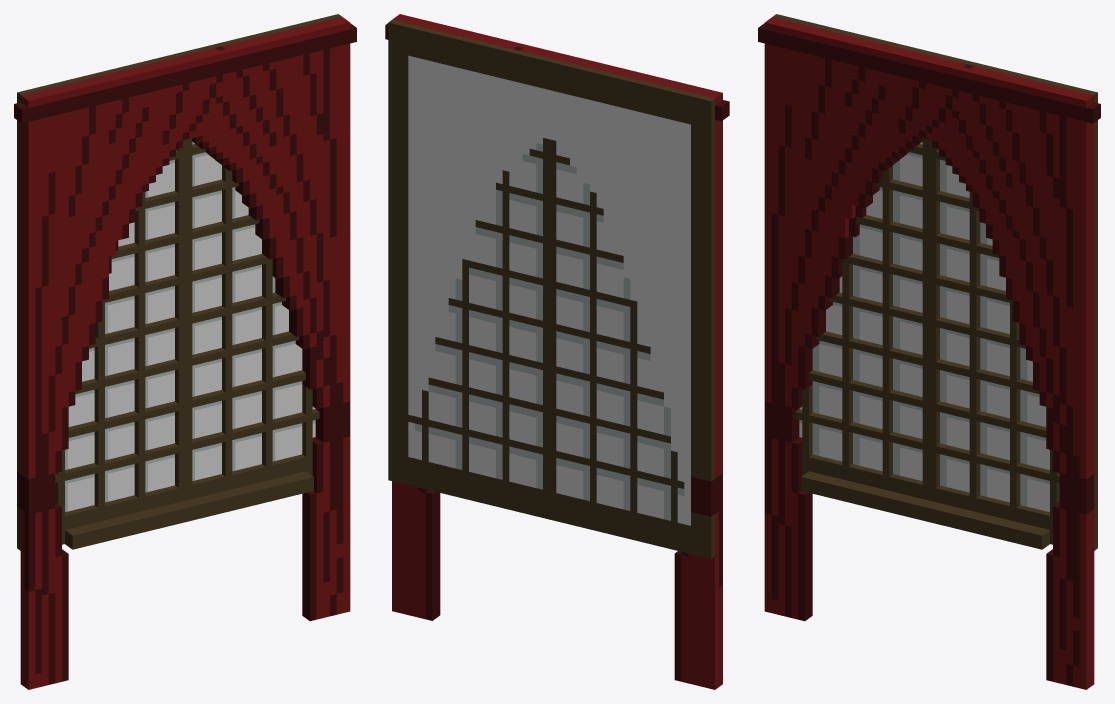
Rendered from ggj windows w curtains.obj.
3 views of the same model, side by side, from view 1: azimuth 30°, elevation 25°; view 2: azimuth 150°, elevation 25°; view 3: azimuth 330°, elevation 25° (orthographic).
Size of the model in its own units: 5 by 8.4 by 0.4.
1 material, 1 textured.
